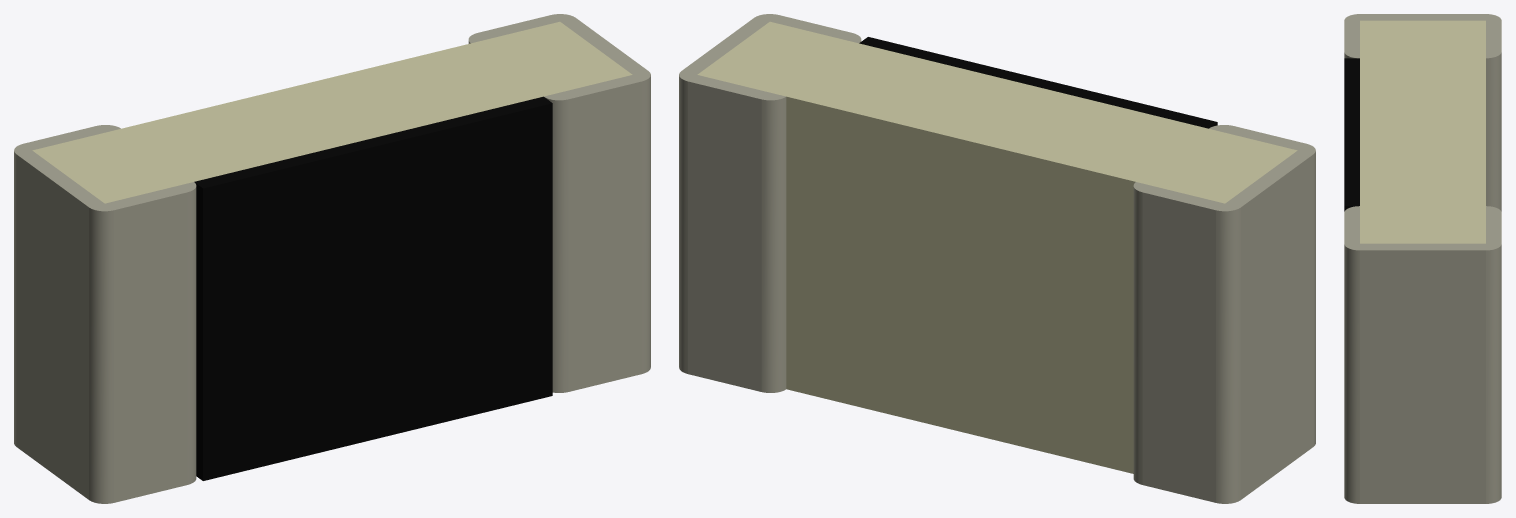
File: r_0603_1608metric.glb
The picture shows the model from 3 angles, left to right: view 1: azimuth 30°, elevation 25°; view 2: azimuth 150°, elevation 25°; view 3: azimuth 270°, elevation 25°; orthographic projection. The views are drawn at different scales.
Visible parts, largest first — view 1: R_0603_1608Metric; view 2: R_0603_1608Metric; view 3: R_0603_1608Metric.
Boxes of the visible parts, <box> form: R_0603_1608Metric: <box>14,14,650,503</box>; R_0603_1608Metric: <box>679,14,1315,503</box>; R_0603_1608Metric: <box>1344,14,1501,503</box>.
Bounding box in the file's own units: 1.6 × 0.8 × 0.45.
